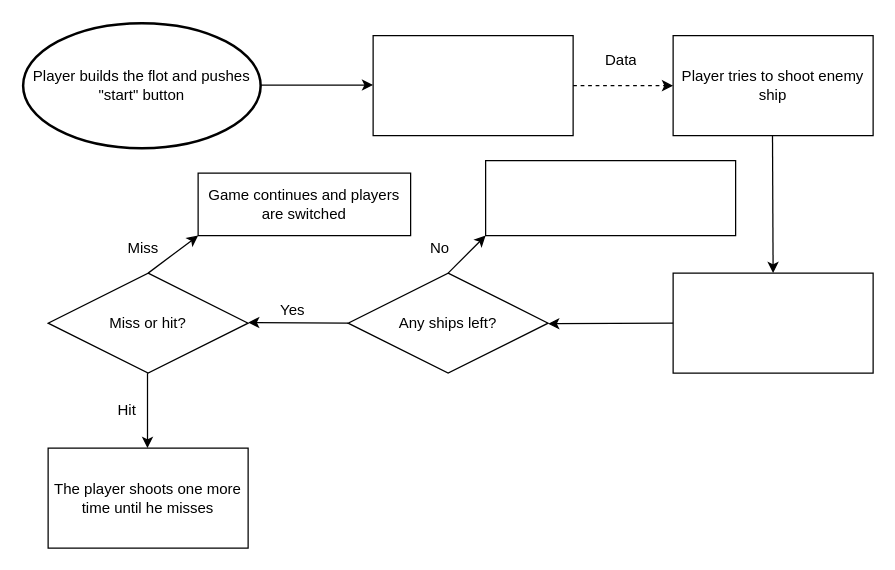
The diagram is 895 pixels wide and 570 high, and some of its shapes have lost their labels. Each missing label, with the centre of its shape:
"Game ends and a message will appear to inform about results of the battle" belongs at point 610,197.
"Render enemy's sea float on my side and on enemy's side too" belongs at point 772,322.
"Render sea float setup and start the game" belongs at point 472,85.
